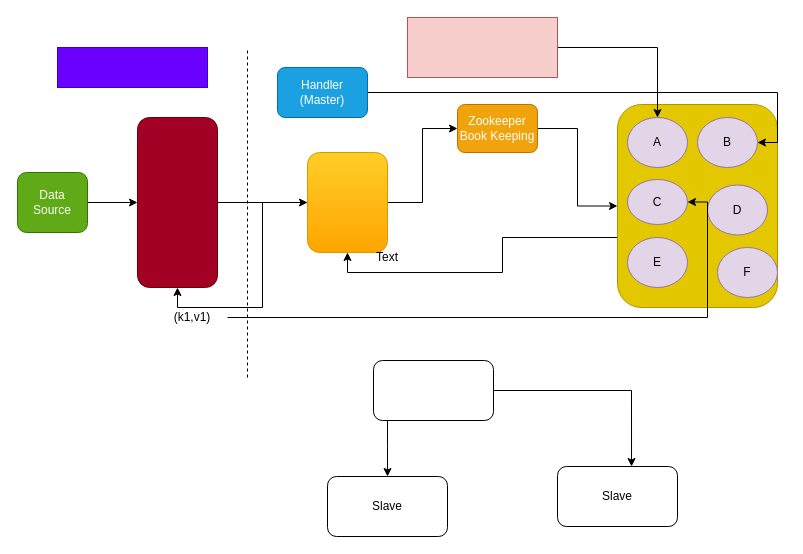
Image size: 803x554. Some labels were removed from this diagram. Each missing label, with the box of its shape:
A/ip/ab/tb/hash-range/ B/ip/ab/tb/hash-range/ C/ip/ab/tb/hash-range/: (406, 16, 558, 78)
Cluster: (616, 104, 778, 308)
Master: (372, 360, 494, 420)
Redis Delegation Manager: (306, 152, 388, 252)
Replication Factor = 3: (56, 46, 208, 88)
Single Interface: (136, 116, 218, 288)
